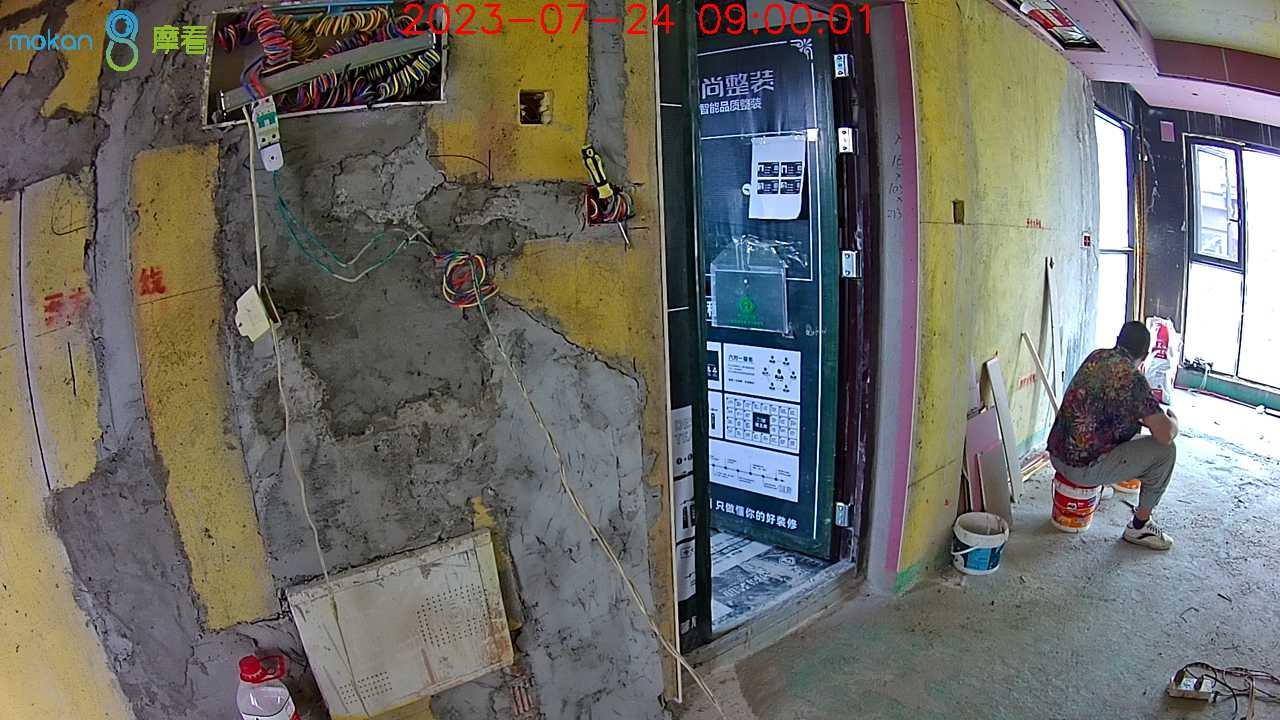people: (1042, 322, 1173, 551)
window: (1187, 134, 1280, 389)
